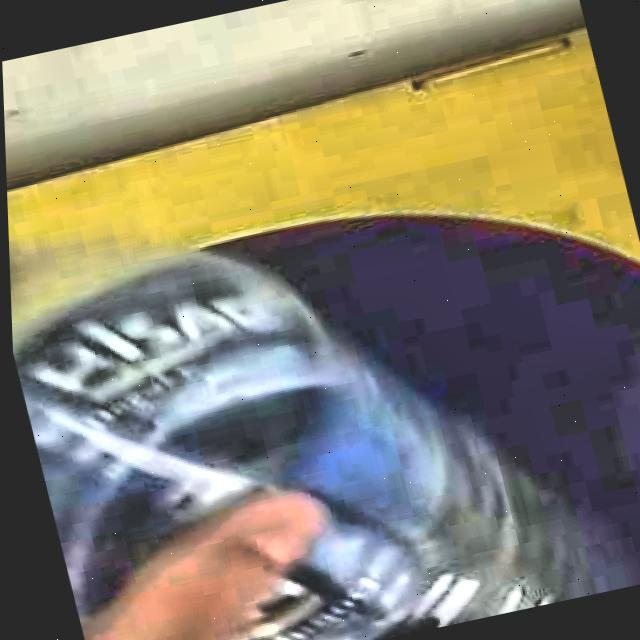plastic: (7, 246, 625, 640)
